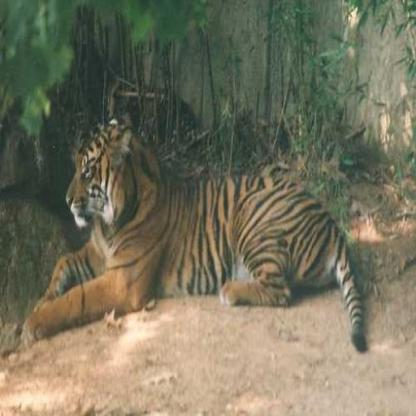Tiger: (18, 108, 403, 361)
